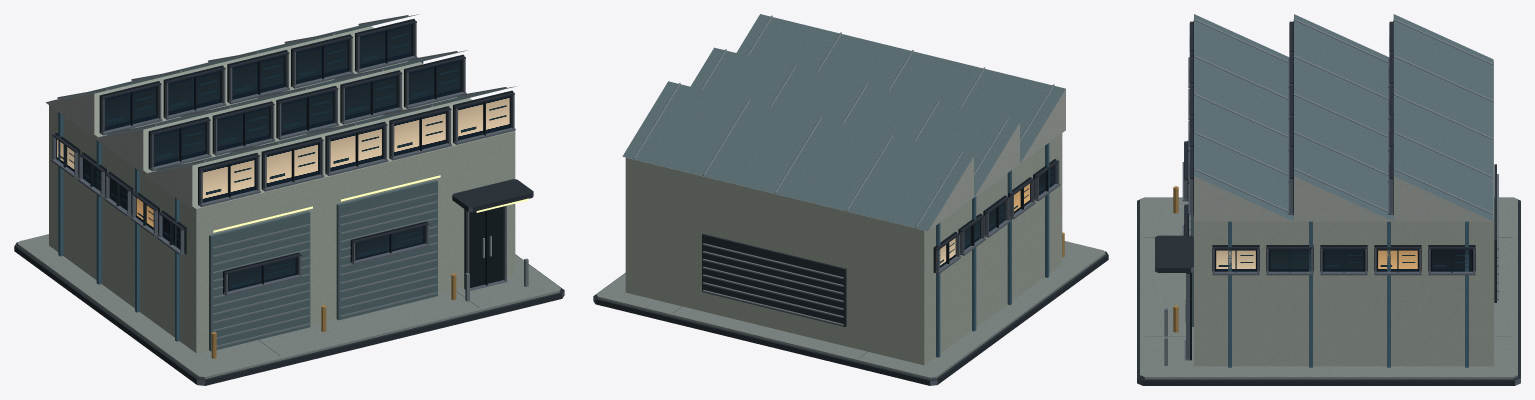
File: 03-tools-annex-02.glb
3 renders of one model, left to right at view 1: azimuth 30°, elevation 25°; view 2: azimuth 150°, elevation 25°; view 3: azimuth 270°, elevation 25°, orthographic. The views are drawn at different scales.
Parts seen in each view (by area): view 1: factory_architecture; view 2: factory_architecture; view 3: factory_architecture.
Boxes of the visible parts, left/top/right/bottom form: factory_architecture: left=14, top=14, right=564, bottom=385; factory_architecture: left=593, top=14, right=1108, bottom=385; factory_architecture: left=1137, top=14, right=1520, bottom=385.
Bounding box in the file's own units: 14.4 × 7.42 × 12.8.
2 materials, 2 textured.
